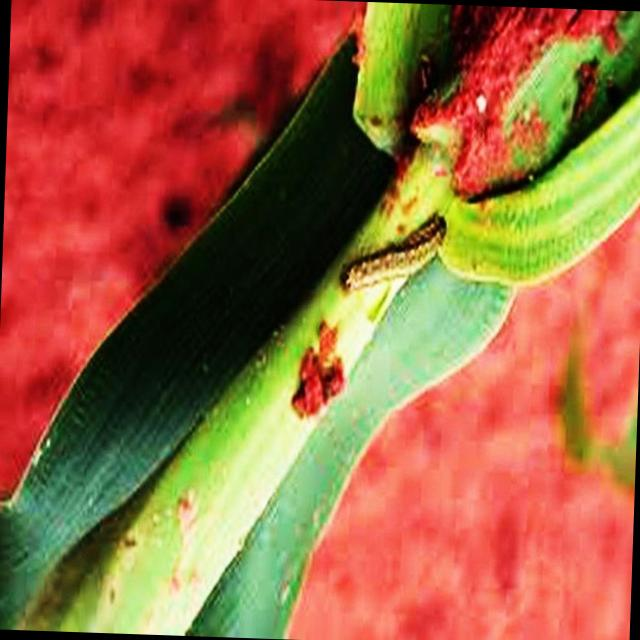pest: (341, 217, 449, 292)
